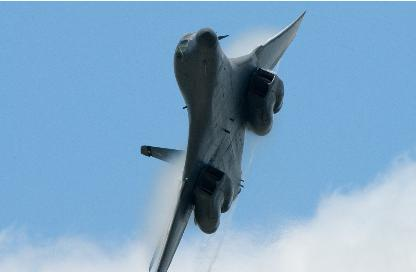AV8B: (140, 10, 306, 270)
